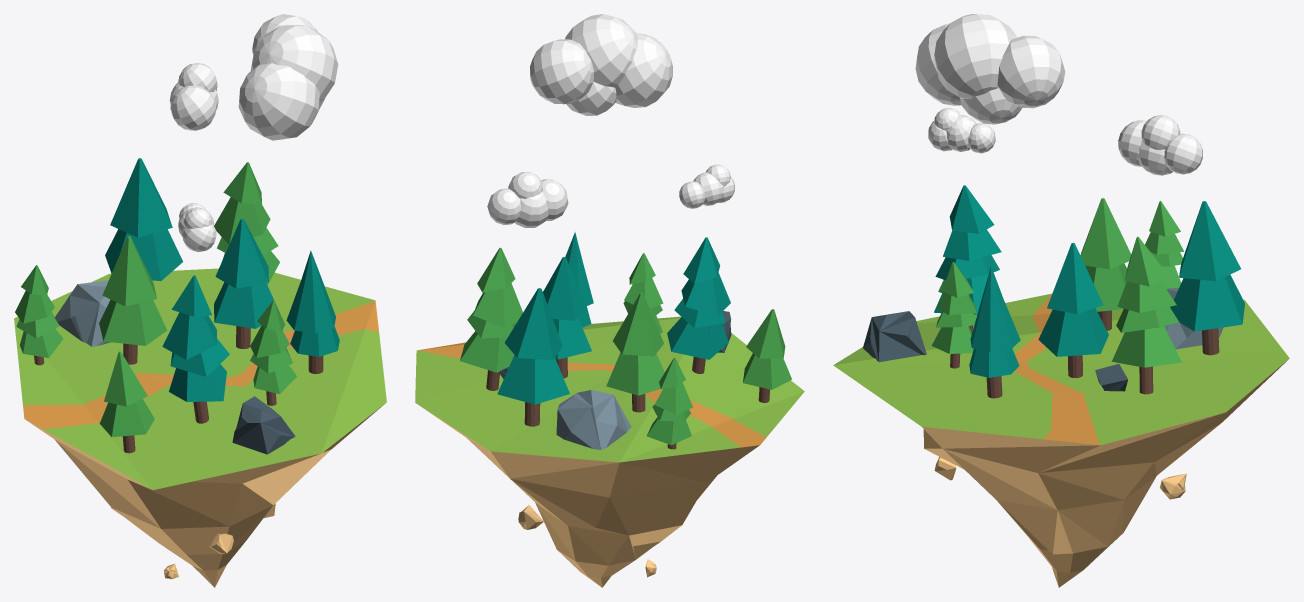
The model's file is floating_island.gltf.
3 views of the same model, side by side, from view 1: azimuth 30°, elevation 25°; view 2: azimuth 150°, elevation 25°; view 3: azimuth 270°, elevation 25° (orthographic). The views are drawn at different scales.
Visible parts, largest first — view 1: group1394957196, group744955768, group1721881196, group939159232, group1211287408, group1645289098, group1452820333, group83618611, group400815905, group1289338147, group1471613733, group1304023297 (+3 smaller); view 2: group1394957196, group744955768, group939159232, group1721881196, group83618611, group1211287408, group764075139, group1304023297, group1645289098, group400815905, group1471613733, group162112790 (+2 smaller); view 3: group1394957196, group744955768, group939159232, group83618611, group1645289098, group1721881196, group1452820333, group1304023297, group1211287408, group1289338147, group123177780, group162112790 (+3 smaller).
Boxes of the visible parts, x1,y1,x2,y2 form: group1394957196: [14, 268, 386, 587]; group744955768: [238, 14, 338, 140]; group1721881196: [162, 275, 229, 423]; group939159232: [105, 158, 182, 280]; group1211287408: [99, 236, 167, 364]; group1645289098: [214, 218, 274, 348]; group1452820333: [286, 250, 339, 373]; group83618611: [214, 162, 279, 285]; group400815905: [99, 351, 154, 453]; group1289338147: [250, 300, 296, 405]; group1471613733: [15, 265, 63, 365]; group1304023297: [169, 63, 218, 130]; group1394957196: [415, 316, 804, 587]; group744955768: [530, 14, 672, 115]; group939159232: [497, 288, 569, 426]; group1721881196: [667, 237, 730, 373]; group83618611: [460, 247, 522, 390]; group1211287408: [606, 292, 664, 412]; group764075139: [556, 390, 631, 449]; group1304023297: [487, 172, 568, 227]; group1645289098: [543, 257, 591, 378]; group400815905: [743, 309, 791, 402]; group1471613733: [646, 357, 692, 449]; group162112790: [679, 164, 734, 208]; group1394957196: [833, 293, 1289, 587]; group744955768: [915, 14, 1065, 124]; group939159232: [1170, 201, 1244, 355]; group83618611: [1112, 236, 1181, 394]; group1645289098: [1038, 242, 1108, 377]; group1721881196: [934, 185, 1001, 332]; group1452820333: [969, 266, 1020, 398]; group1304023297: [1118, 115, 1202, 175]; group1211287408: [1080, 198, 1131, 330]; group1289338147: [931, 262, 976, 368]; group123177780: [863, 311, 926, 362]; group162112790: [928, 107, 995, 153].
Bounding box in the file's own units: 0.4565 × 0.6982 × 0.4898.
